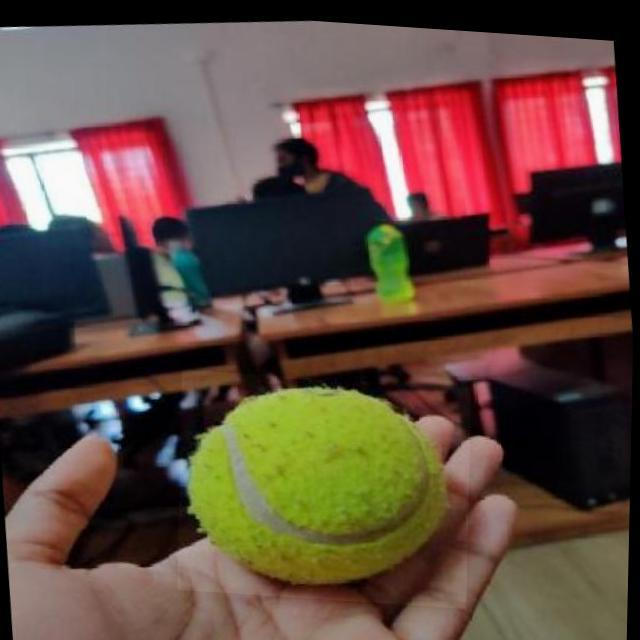-: (180, 367, 473, 602)
